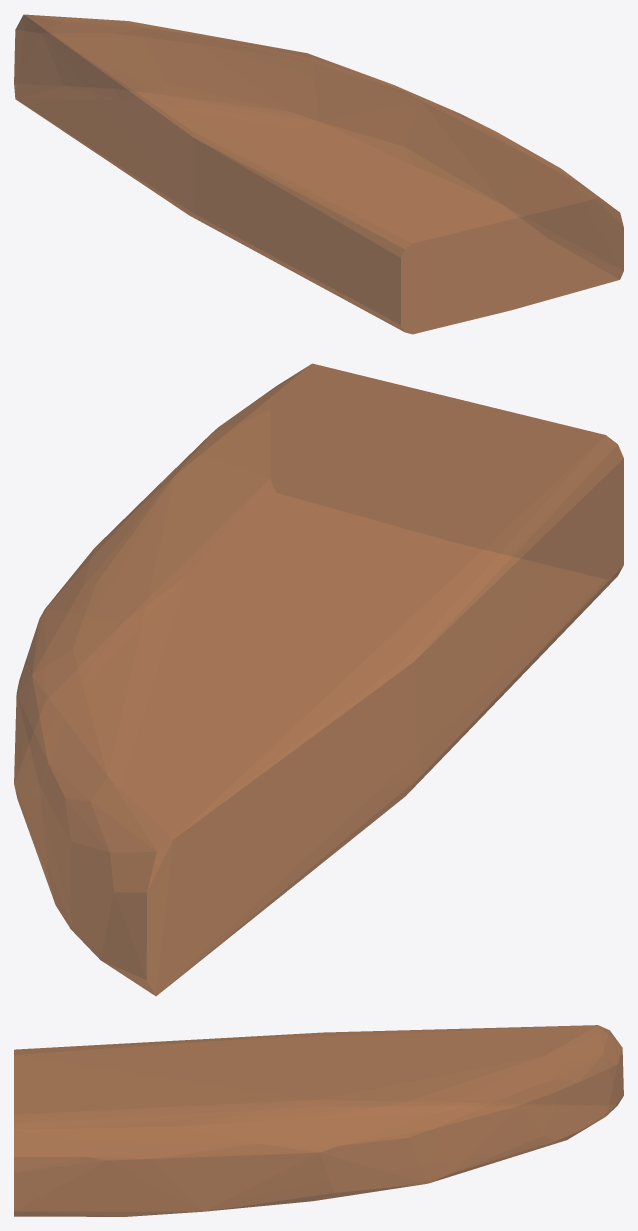
3 views of the same model, one above another, from view 1: azimuth 30°, elevation 25°; view 2: azimuth 150°, elevation 25°; view 3: azimuth 270°, elevation 25° (orthographic). The views are drawn at different scales.
Parts seen in each view (by area): view 1: Shape_IndexedFaceSet.005_Shape_IndexedFaceSet.468; view 2: Shape_IndexedFaceSet.005_Shape_IndexedFaceSet.468; view 3: Shape_IndexedFaceSet.005_Shape_IndexedFaceSet.468.
Part boxes in pixels (bbox=[...]): Shape_IndexedFaceSet.005_Shape_IndexedFaceSet.468: bbox=[14, 14, 623, 334]; Shape_IndexedFaceSet.005_Shape_IndexedFaceSet.468: bbox=[14, 363, 623, 996]; Shape_IndexedFaceSet.005_Shape_IndexedFaceSet.468: bbox=[14, 1025, 623, 1216].
Bounding box in the file's own units: 0.1856 × 0.0601 × 0.4121.
